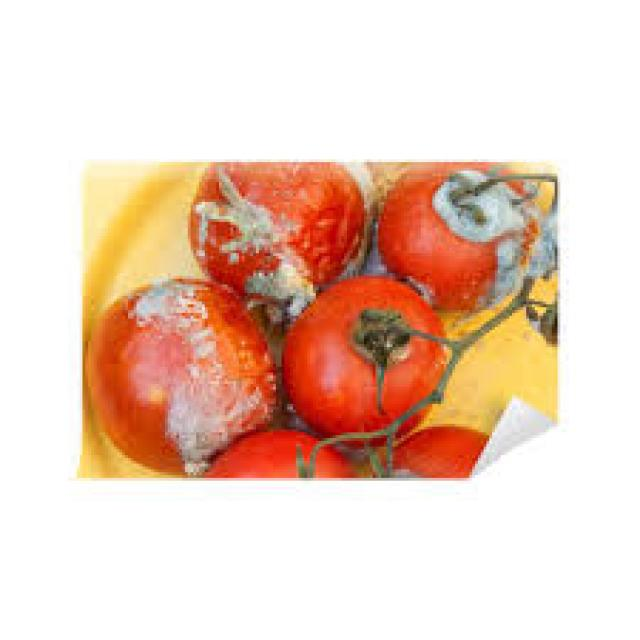organic waste: (82, 273, 279, 472), (185, 160, 381, 324), (279, 270, 452, 444), (376, 159, 554, 307), (196, 421, 350, 475), (367, 418, 486, 472)
